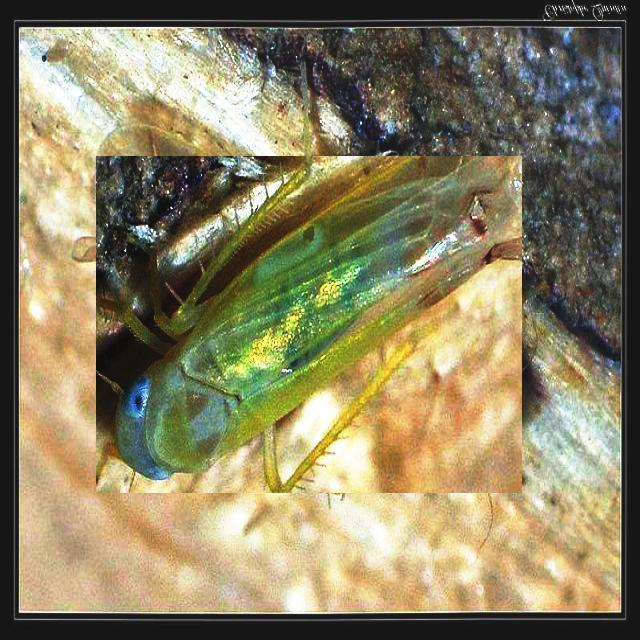green-leafhopper: (96, 156, 522, 493)
